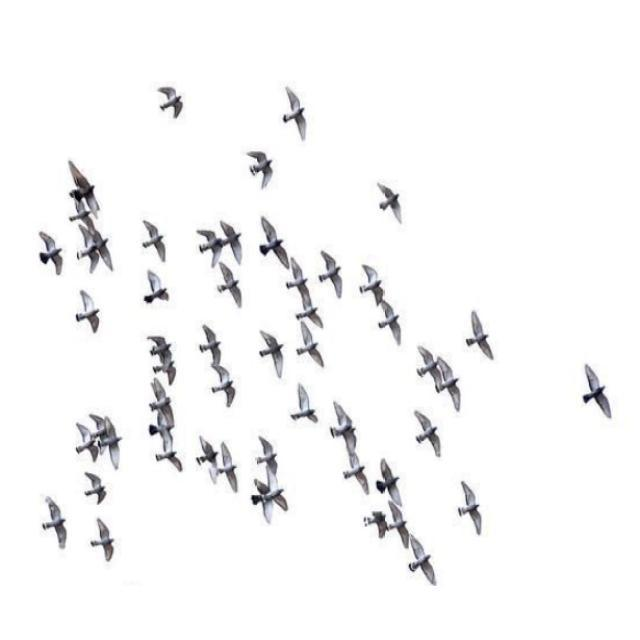bird: (276, 86, 316, 140), (373, 172, 412, 224), (580, 363, 616, 416), (466, 312, 501, 358), (194, 320, 229, 365), (408, 538, 438, 590), (39, 498, 69, 549), (330, 402, 360, 453), (412, 413, 444, 459), (70, 163, 102, 209), (259, 218, 289, 267), (242, 150, 278, 190), (258, 329, 287, 377), (457, 482, 484, 533), (88, 518, 117, 565), (375, 460, 407, 501), (216, 266, 247, 308), (192, 228, 225, 266), (104, 411, 126, 468), (297, 324, 323, 372), (74, 290, 102, 334), (288, 386, 320, 424), (210, 367, 240, 407), (154, 87, 190, 119), (223, 216, 248, 262), (417, 348, 441, 395), (387, 500, 409, 550), (295, 297, 329, 329), (218, 440, 240, 489), (147, 382, 175, 420), (254, 438, 286, 471), (36, 232, 61, 274), (440, 360, 461, 410), (285, 260, 314, 296), (360, 262, 384, 304), (140, 220, 167, 257), (342, 455, 369, 491), (142, 272, 170, 304), (321, 252, 347, 286), (249, 482, 270, 523), (267, 476, 292, 510), (85, 472, 110, 505), (379, 305, 401, 342), (363, 506, 388, 538), (76, 231, 96, 270), (156, 438, 182, 468), (77, 424, 96, 464), (148, 416, 180, 439), (196, 438, 220, 468), (149, 337, 172, 367), (65, 202, 93, 224), (96, 228, 112, 266), (92, 412, 106, 439), (156, 362, 175, 380)
